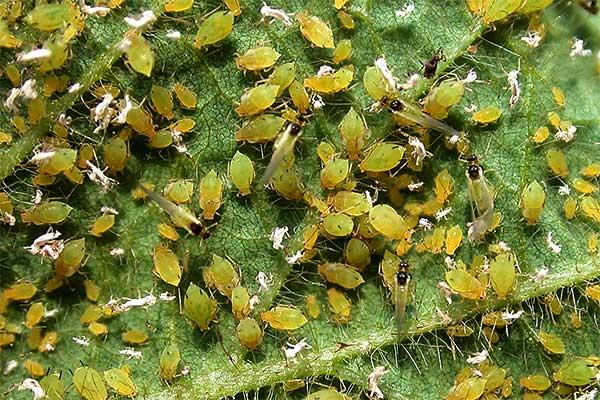Insects: (197, 245, 248, 314), (171, 277, 220, 347), (187, 2, 243, 60), (139, 237, 192, 297), (289, 0, 340, 61), (108, 87, 157, 150), (219, 142, 264, 210), (257, 292, 312, 346), (361, 202, 420, 252), (110, 27, 164, 81), (480, 239, 521, 310), (46, 232, 92, 293), (146, 338, 193, 396), (193, 162, 231, 230), (228, 37, 284, 83), (428, 67, 477, 118), (18, 192, 77, 234), (356, 135, 411, 180), (15, 0, 80, 37), (92, 130, 134, 187), (60, 354, 111, 400), (230, 112, 295, 148), (227, 79, 279, 121), (549, 352, 600, 394), (516, 171, 548, 237), (335, 103, 369, 165), (313, 255, 371, 291), (322, 185, 378, 221), (299, 65, 361, 97), (266, 162, 306, 206), (97, 361, 142, 400), (443, 261, 490, 298), (233, 315, 266, 367), (143, 77, 178, 125), (283, 72, 320, 117), (318, 282, 358, 323), (39, 143, 82, 181), (318, 152, 354, 195), (359, 64, 395, 107), (530, 325, 572, 361), (85, 205, 124, 243), (541, 141, 575, 182), (440, 372, 489, 400), (298, 283, 327, 329), (229, 274, 254, 325), (477, 308, 526, 334), (32, 367, 69, 400), (468, 101, 507, 132), (81, 76, 124, 104), (327, 33, 359, 68), (162, 177, 201, 205), (319, 210, 354, 241), (516, 369, 554, 397), (23, 94, 51, 130), (567, 169, 600, 199), (18, 298, 47, 332), (149, 123, 178, 157), (75, 302, 110, 330), (436, 319, 477, 342), (330, 5, 362, 34), (442, 222, 466, 260), (578, 195, 600, 234), (117, 325, 154, 348), (471, 326, 506, 350), (165, 117, 199, 141), (315, 136, 339, 170), (39, 70, 63, 104), (83, 318, 113, 345), (428, 224, 449, 261), (542, 291, 567, 322), (16, 356, 48, 379), (0, 60, 26, 88), (7, 113, 32, 141), (548, 80, 572, 109), (559, 194, 580, 226), (577, 281, 600, 308), (578, 157, 600, 181), (0, 124, 13, 157)
